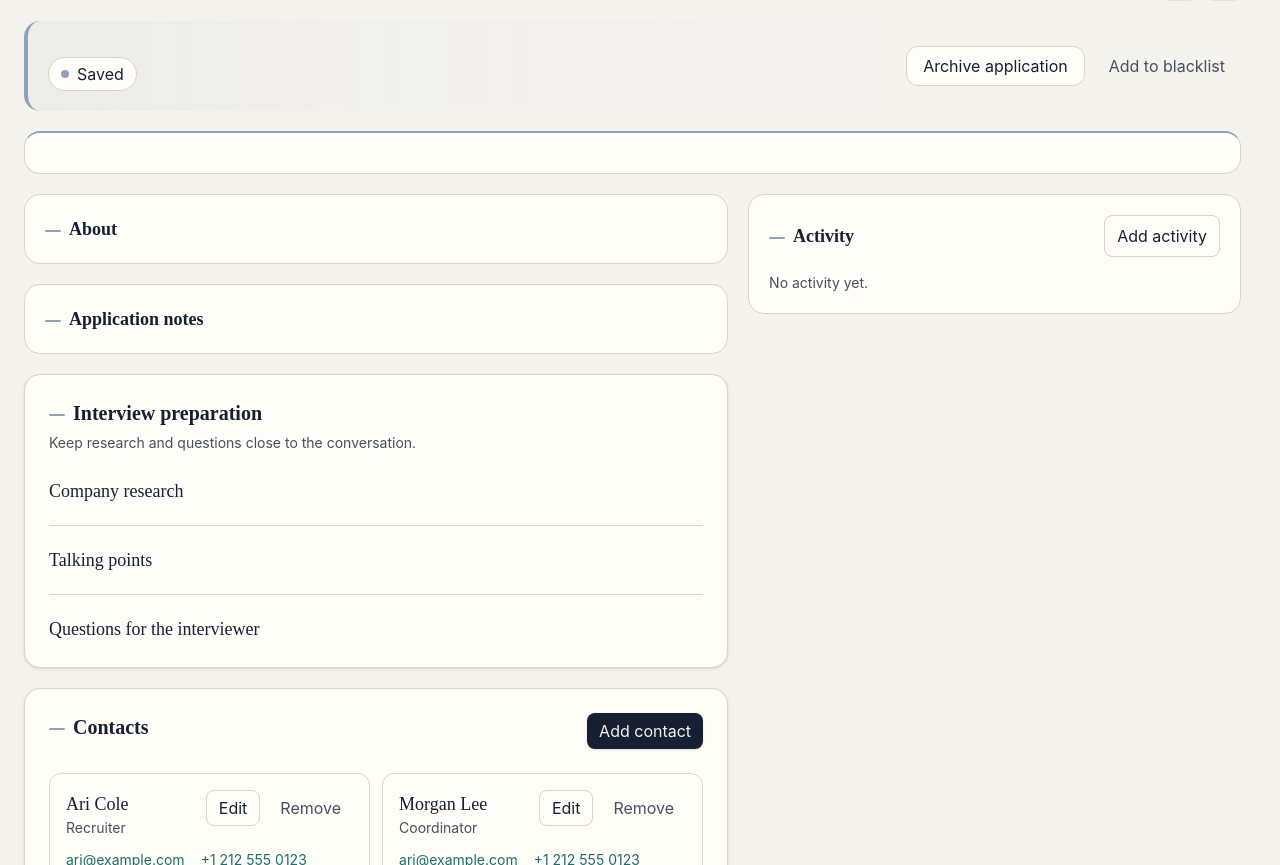
Scenario: asks before replacing a dirty contact editor
The image size is (1280, 865).
Click the button with aria-label "Edit Ari Cole". click: (233, 808)
box: [206, 790, 260, 826]
(page scrolled)
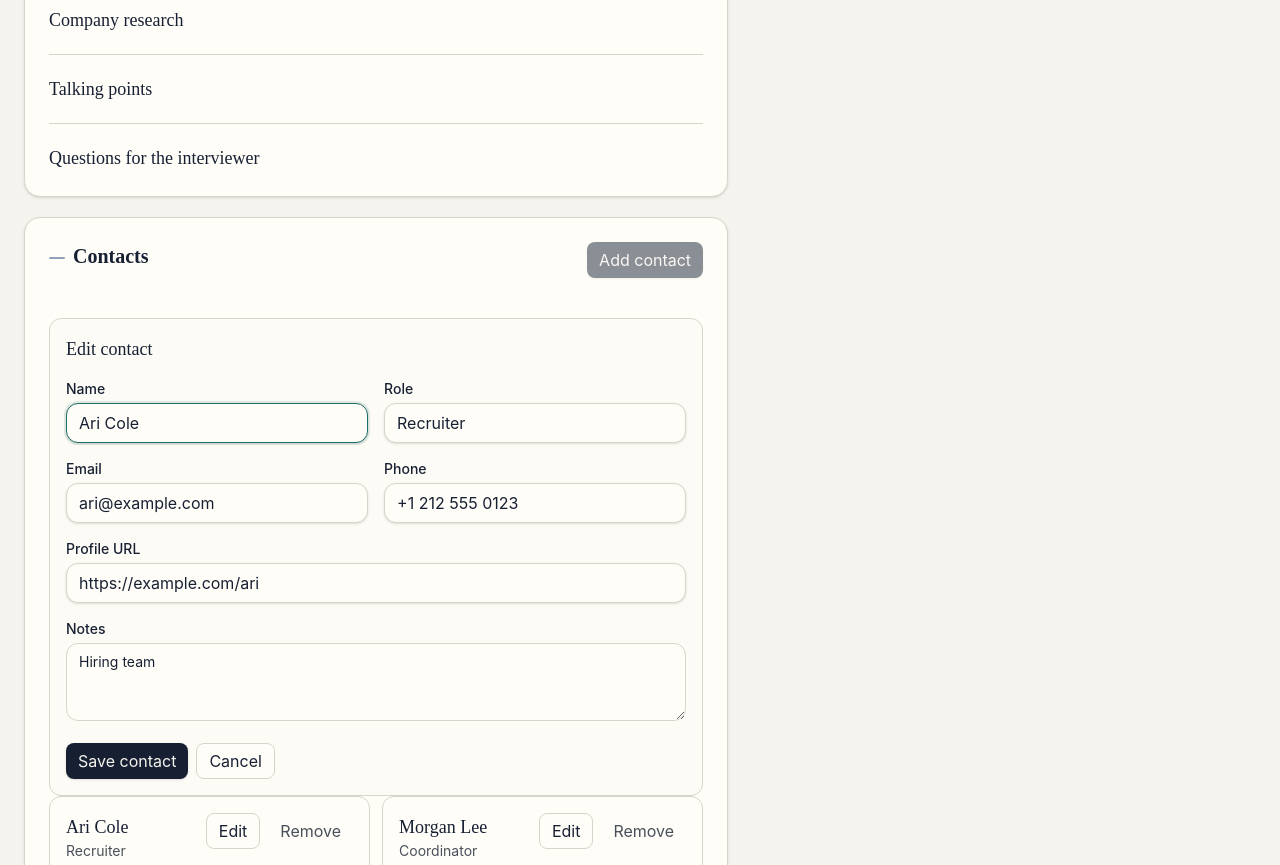
Replace the text in the field labelled "Role" with "Draft recruiter". click: (535, 423)
box: [384, 403, 686, 443]
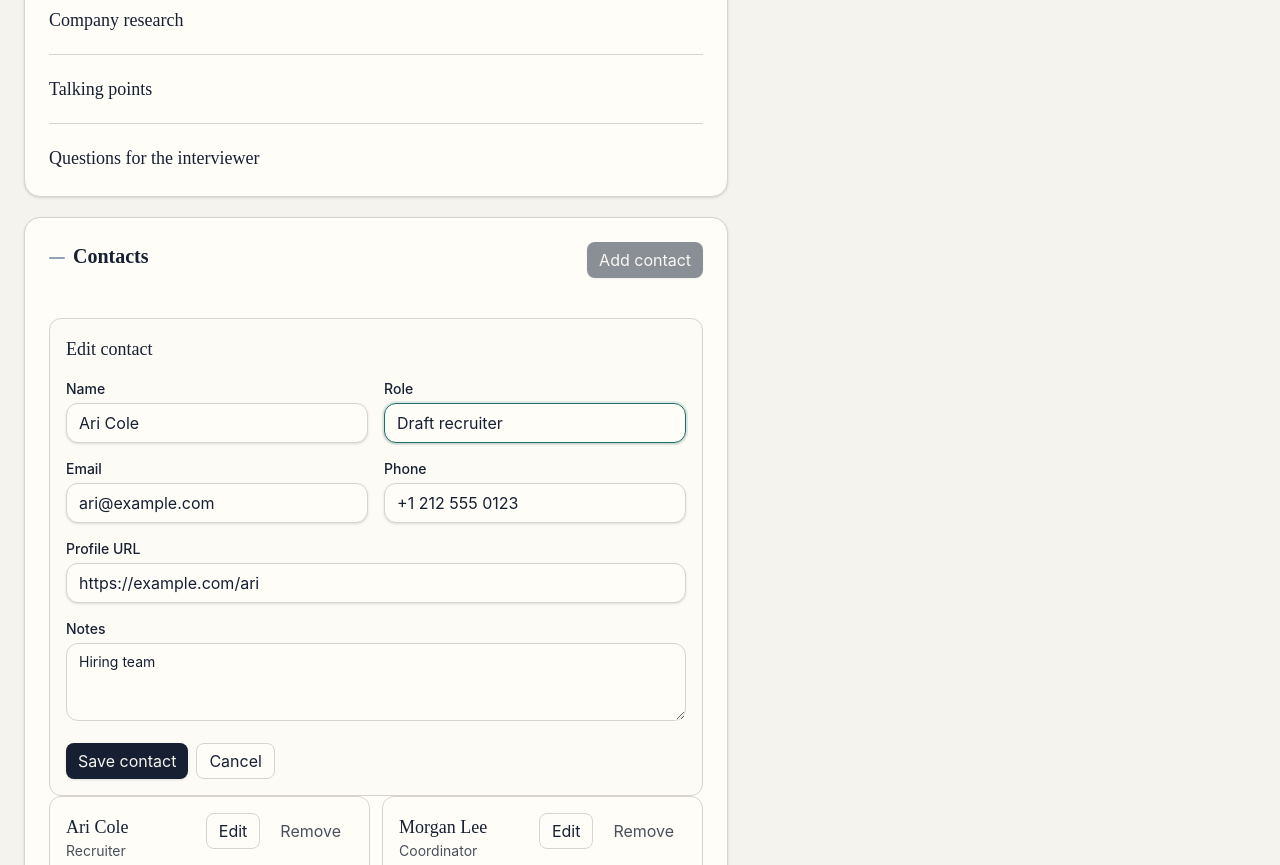
Click the button with aria-label "Edit Morgan Lee". click: (566, 831)
box: [539, 813, 593, 849]
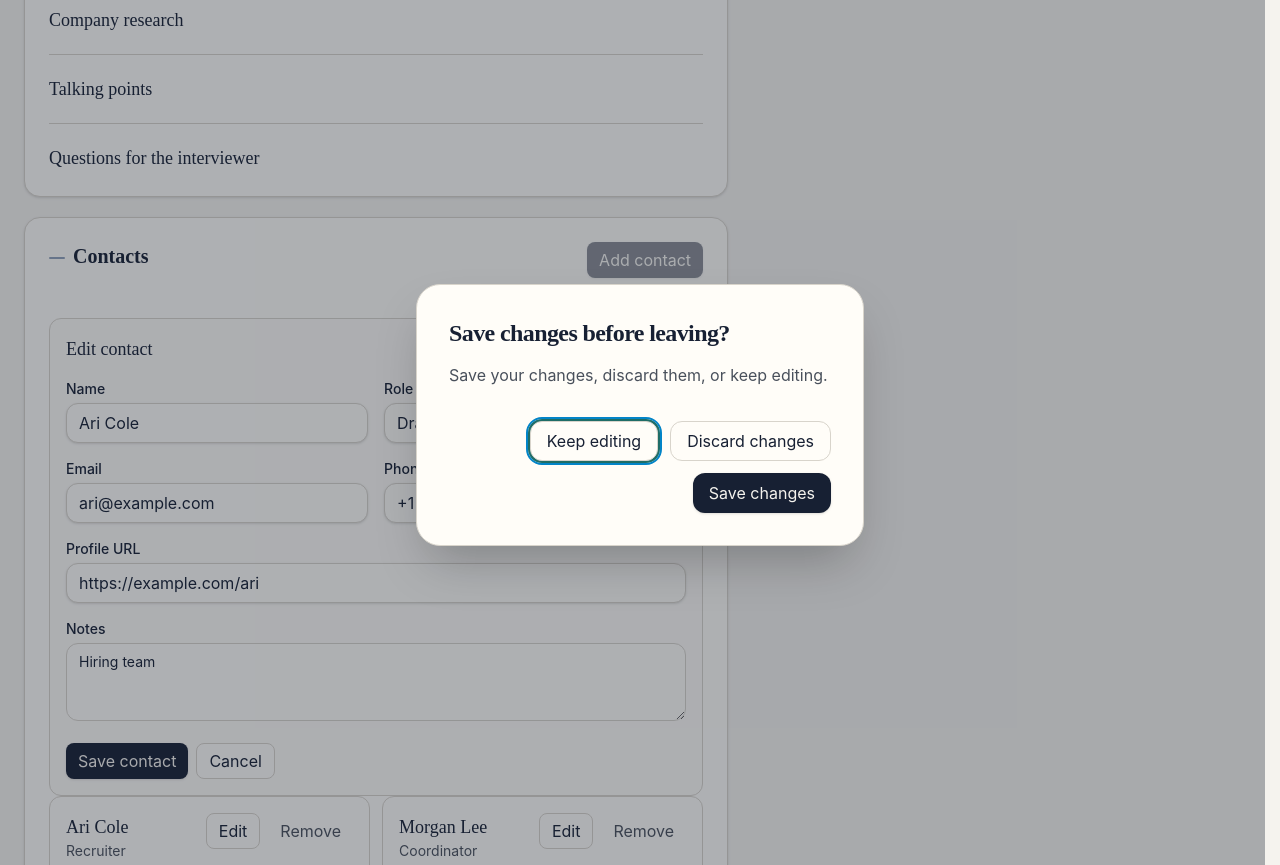
Now the dialog "Save changes before leaving?" is shown, box [416, 284, 864, 546]
Click the button "Keep editing". click: (594, 441)
box: [530, 421, 658, 461]
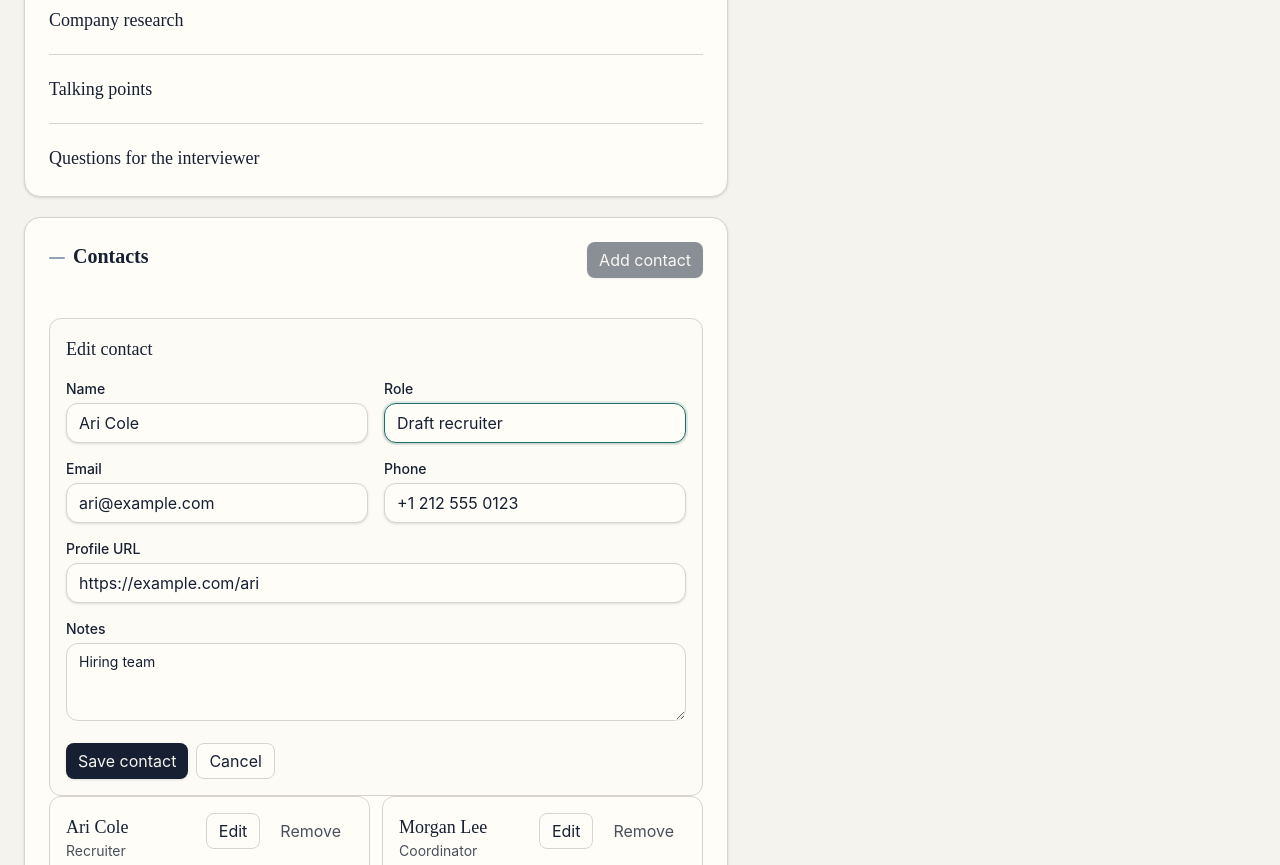
Click the button with aria-label "Edit Morgan Lee". click: (566, 831)
box: [539, 813, 593, 849]
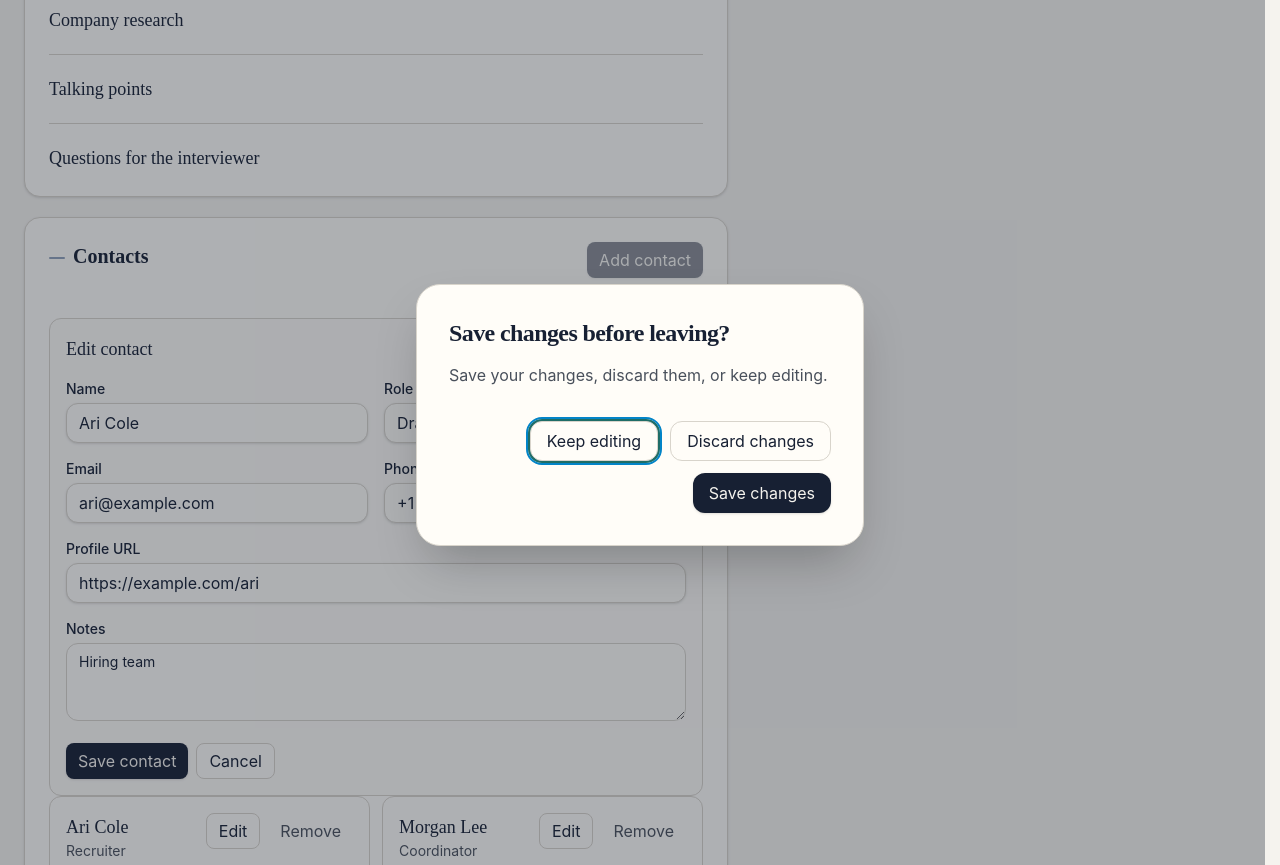
Click the button "Discard changes". click: (751, 441)
box: [670, 421, 831, 461]
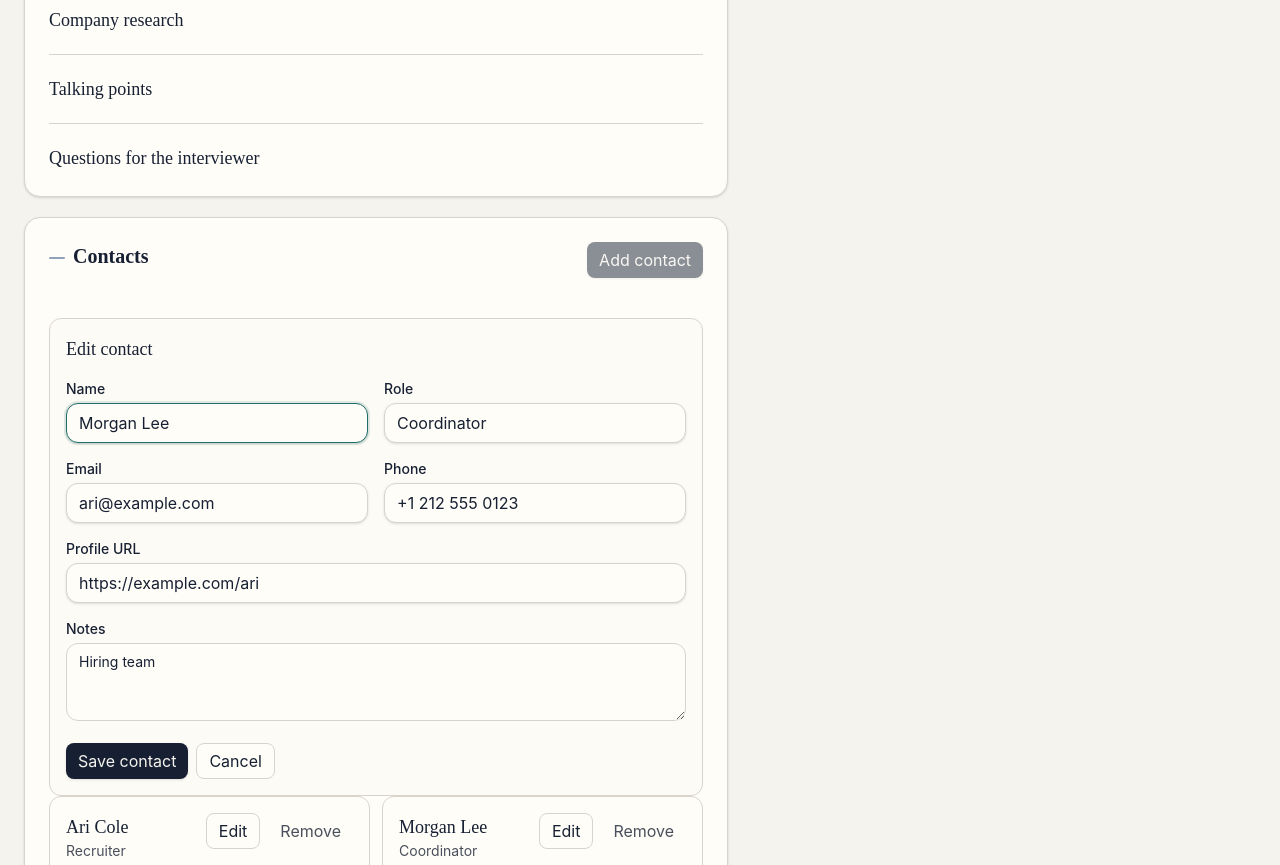
Now the field labelled "Name" holds "Morgan Lee", box [66, 403, 368, 443]
